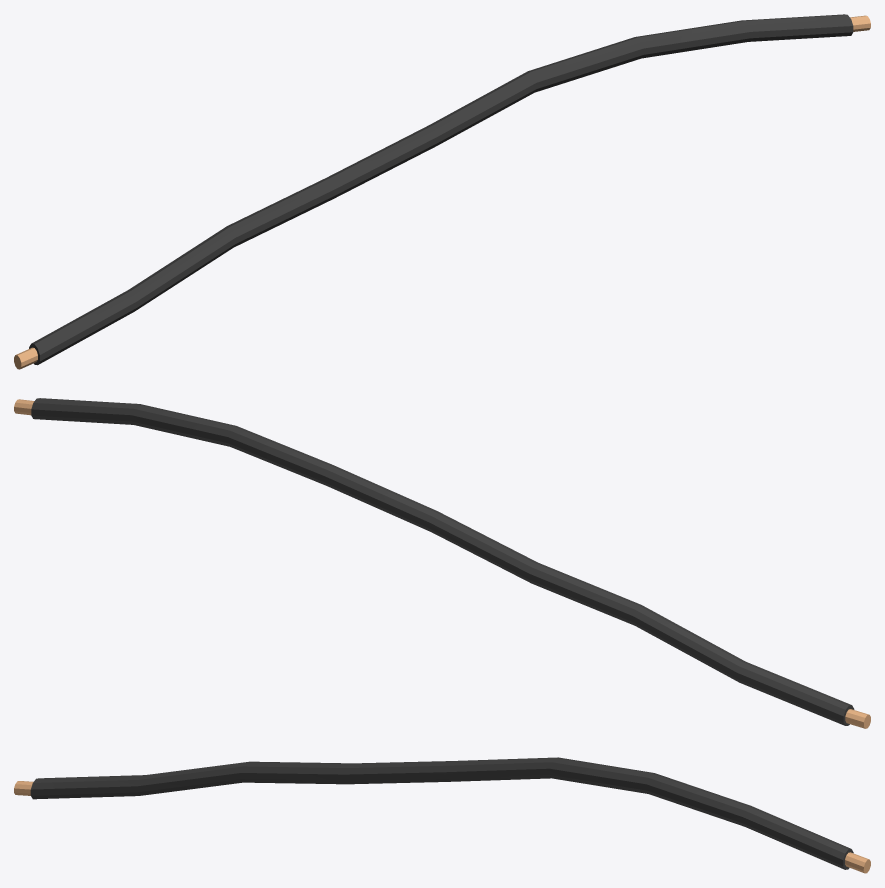
Rendered from Black_Wire.fbx.
The picture shows the model from 3 angles, top to bottom: view 1: azimuth 30°, elevation 25°; view 2: azimuth 150°, elevation 25°; view 3: azimuth 330°, elevation 25°; orthographic projection. The views are drawn at different scales.
Parts seen in each view (by area): view 1: pCylinder19; view 2: pCylinder19; view 3: pCylinder19.
Boxes of the visible parts, x1,y1,x2,y2 form: pCylinder19: [14, 14, 870, 369]; pCylinder19: [14, 398, 870, 728]; pCylinder19: [14, 757, 870, 873].
Bounding box in the file's own units: 1.42 × 0.2624 × 0.0817.
